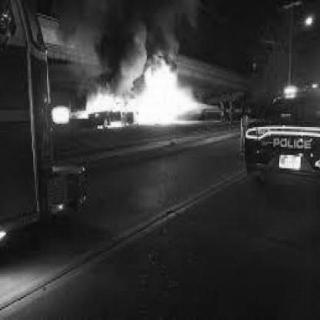Smoke: (64, 0, 200, 71)
